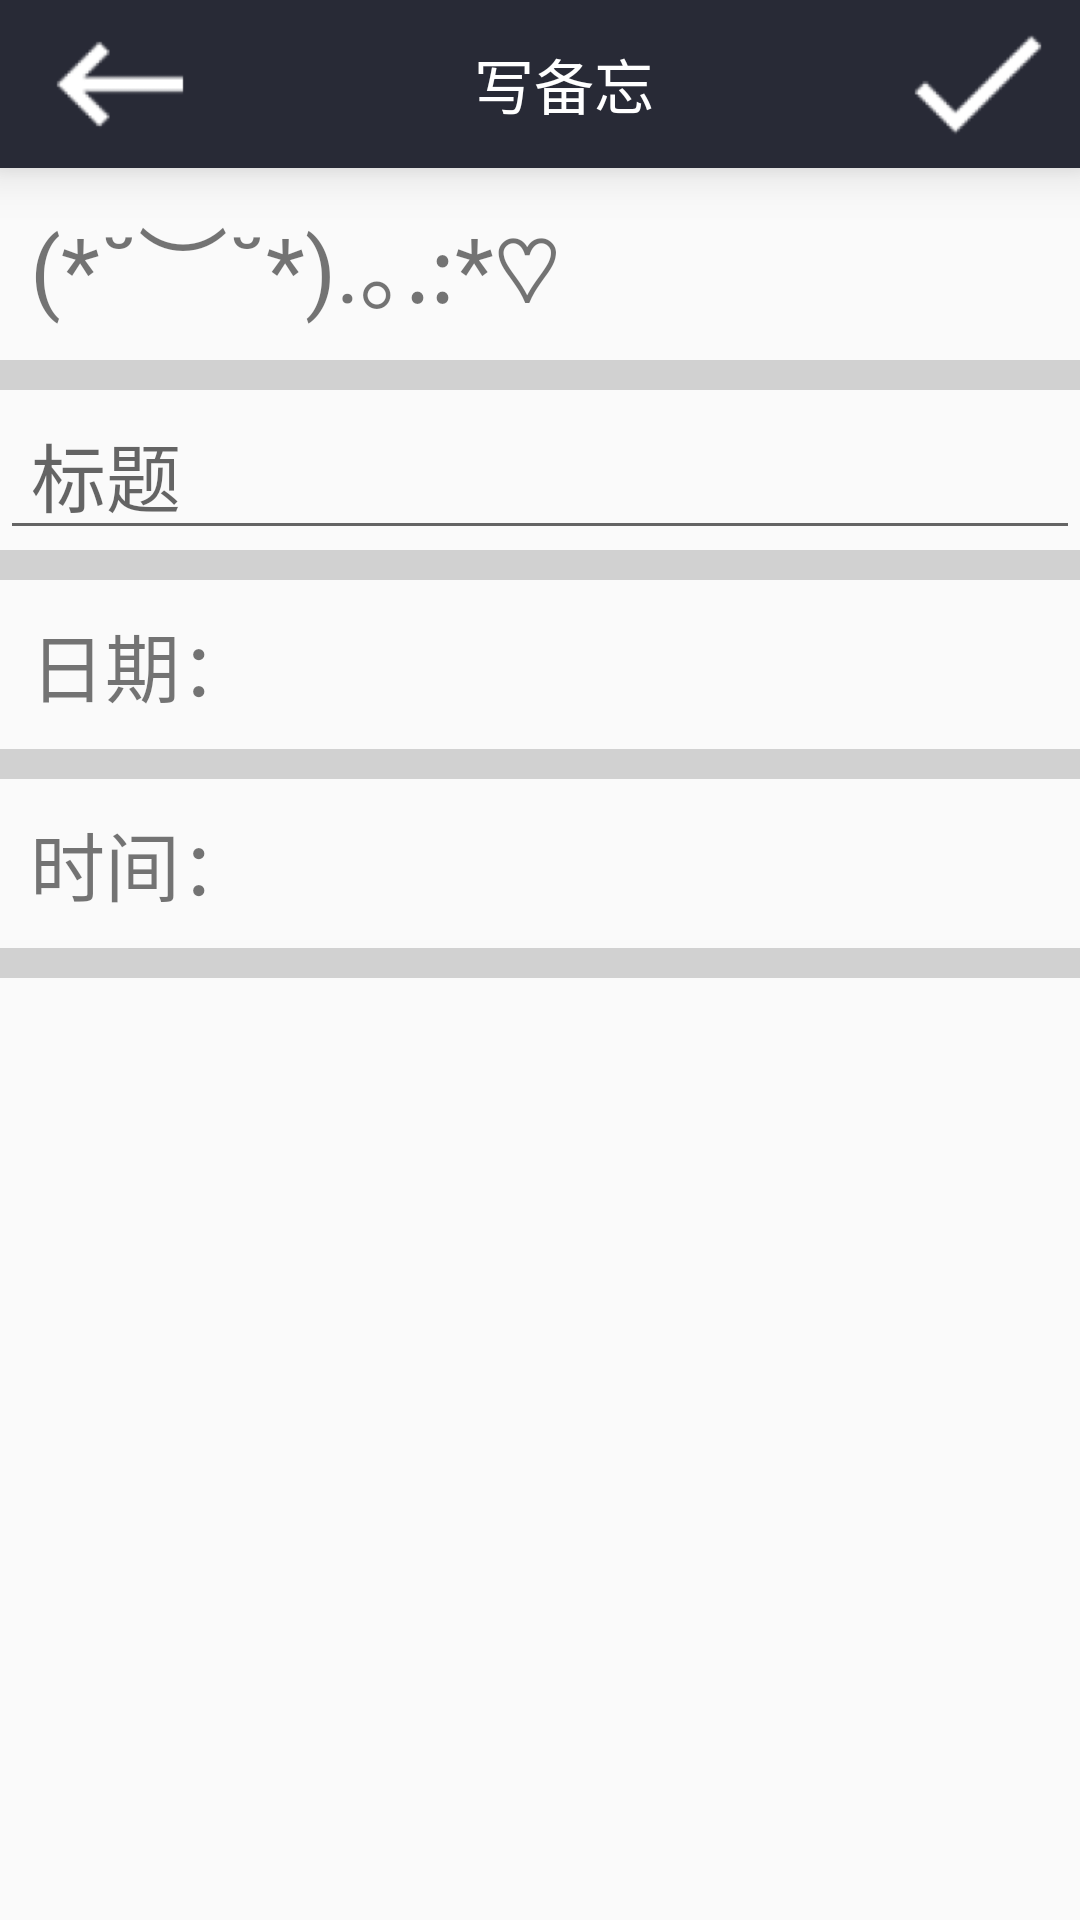

Icon click points for this 1080px x 1920px phone screenshot, format point (x, y):
back: point (120, 84)
done: point (978, 84)
